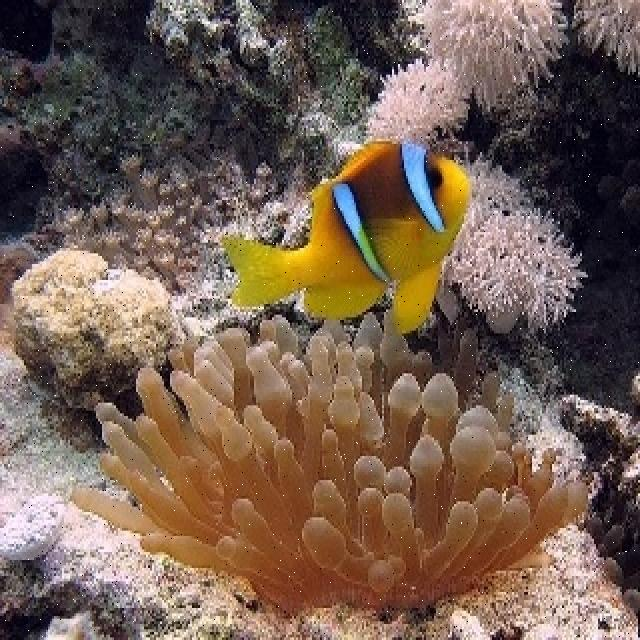fish: (224, 142, 471, 333)
reefs: (76, 310, 588, 611), (365, 3, 579, 145), (10, 249, 185, 413), (444, 146, 588, 332), (574, 0, 638, 75)
